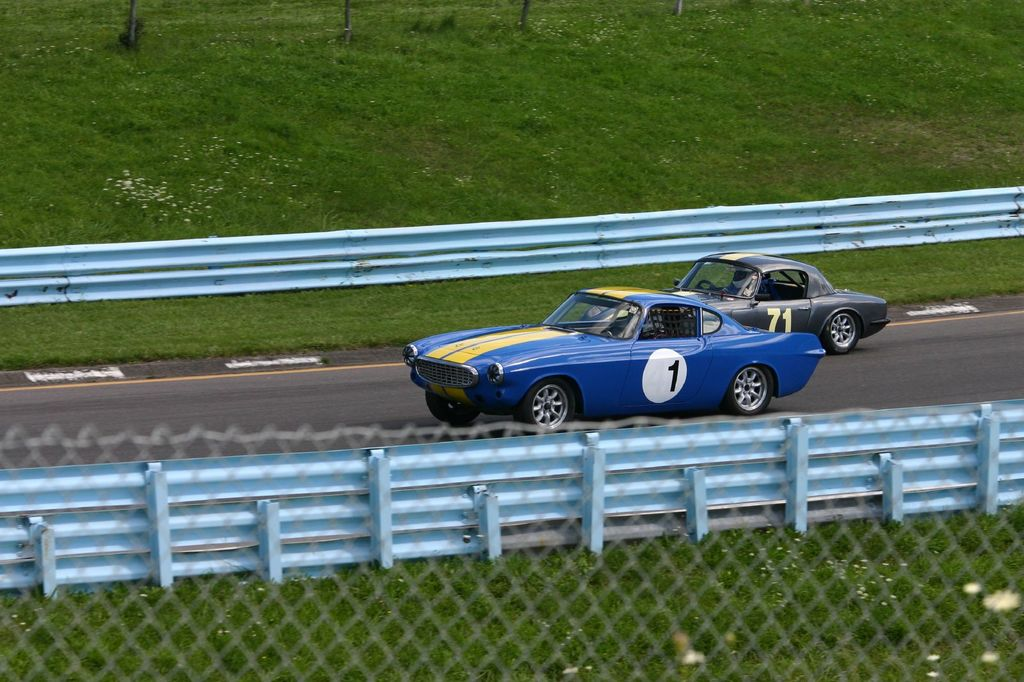Car: (401, 287, 825, 438), (580, 254, 892, 356)
